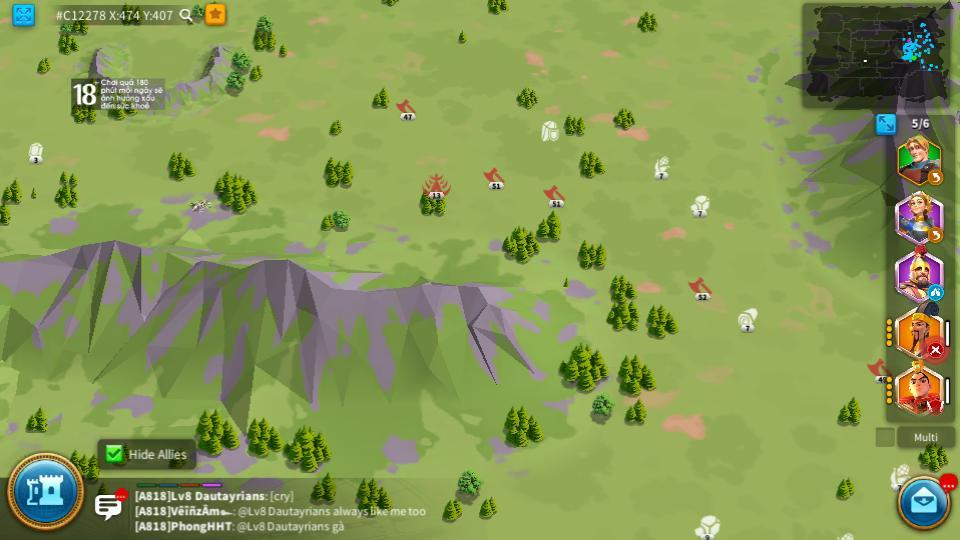gem-z-out: (836, 531, 856, 539)
march_attacking: (927, 345, 944, 357), (927, 402, 944, 414)
march_idle: (929, 284, 942, 299)
march_returning: (929, 170, 943, 185), (928, 230, 942, 242)
